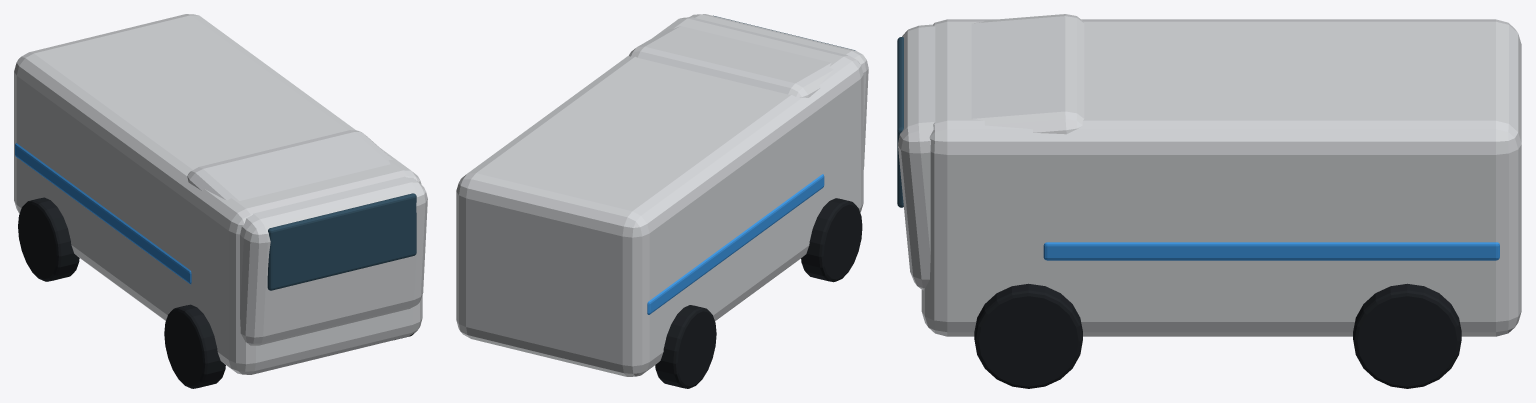
The model's file is service_van.glb.
3 renders of one model, left to right at view 1: azimuth 30°, elevation 25°; view 2: azimuth 150°, elevation 25°; view 3: azimuth 270°, elevation 25°, orthographic. The views are drawn at different scales.
Parts seen in each view (by area): view 1: Main, Cabin, Windshield, VanWheel, VanWheel.001, Stripe; view 2: Main, Cabin, VanWheel.001, VanWheel, Stripe; view 3: Main, Cabin, VanWheel.003, VanWheel.002, Stripe, Windshield.
Boxes of the visible parts, x1=… form: Main: x1=14, y1=14, x2=422, y2=374; Cabin: x1=187, y1=130, x2=427, y2=345; Windshield: x1=267, y1=193, x2=416, y2=290; VanWheel: x1=164, y1=304, x2=225, y2=388; VanWheel.001: x1=18, y1=197, x2=79, y2=281; Stripe: x1=15, y1=143, x2=191, y2=284; Main: x1=456, y1=17, x2=863, y2=376; Cabin: x1=629, y1=14, x2=868, y2=169; VanWheel.001: x1=655, y1=305, x2=716, y2=388; VanWheel: x1=801, y1=198, x2=862, y2=282; Stripe: x1=647, y1=174, x2=824, y2=314; Main: x1=921, y1=19, x2=1521, y2=336; Cabin: x1=898, y1=14, x2=1084, y2=290; VanWheel.003: x1=1353, y1=283, x2=1461, y2=388; VanWheel.002: x1=974, y1=283, x2=1082, y2=388; Stripe: x1=1043, y1=242, x2=1499, y2=260; Windshield: x1=897, y1=37, x2=903, y2=207.
Bounding box in the file's own units: 2.28 × 1.99 × 4.37.
